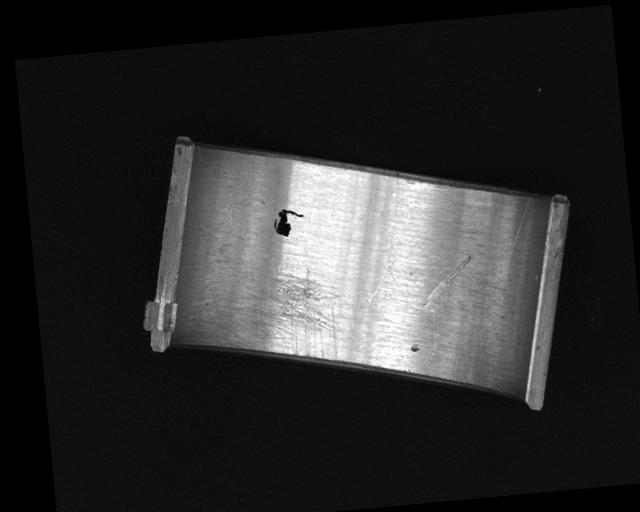blot: (272, 207, 306, 238)
bruise: (410, 342, 422, 354)
nick: (355, 174, 412, 302), (483, 194, 540, 292), (417, 254, 477, 308), (423, 302, 441, 361)
scratch: (215, 265, 350, 371)
